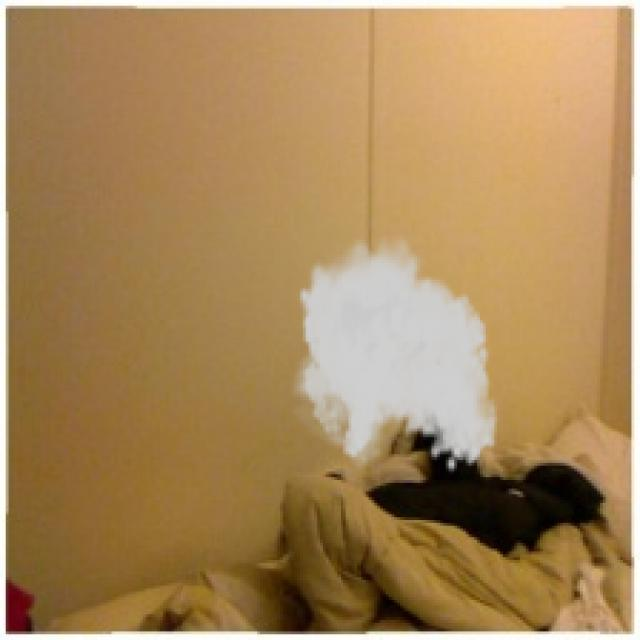smoke: (286, 229, 500, 474)
